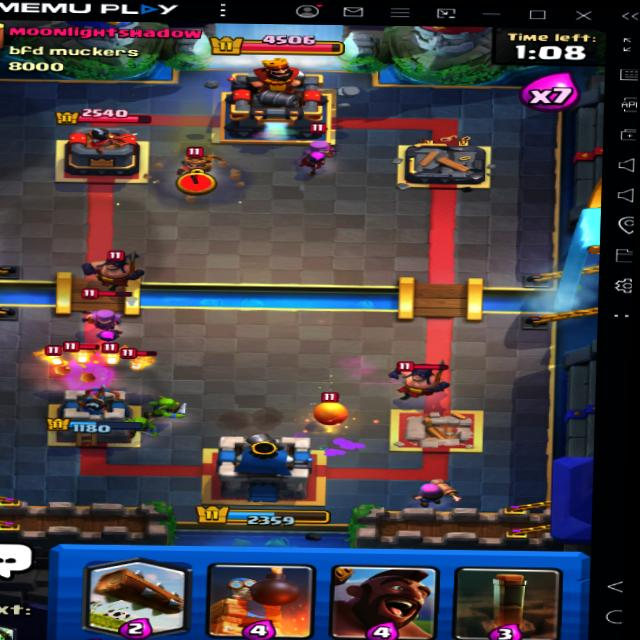executioner: (81, 241, 163, 288), (387, 354, 452, 400)
little-prince: (170, 142, 224, 188)
mother-witch: (72, 289, 145, 345), (286, 122, 347, 180)
phoenix-egg: (306, 391, 351, 424)
